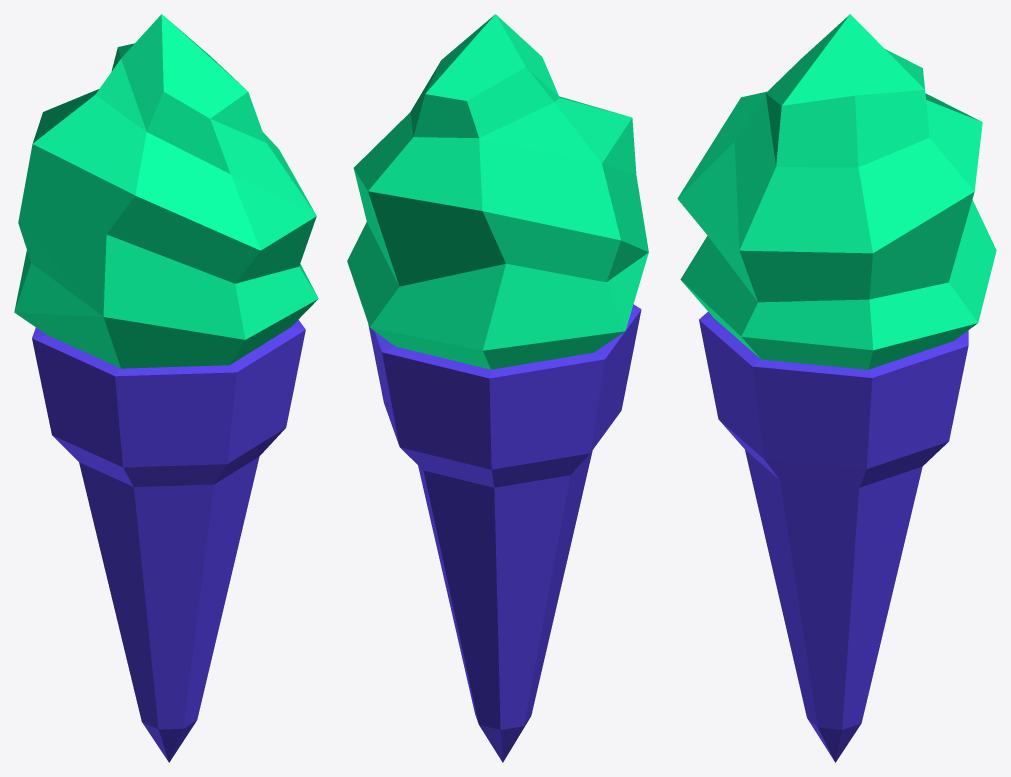
Rendered from 053_iceCream.fbx.
The picture shows the model from 3 angles, left to right: view 1: azimuth 30°, elevation 25°; view 2: azimuth 150°, elevation 25°; view 3: azimuth 270°, elevation 25°; orthographic projection.
Parts seen in each view (by area): view 1: ICECREAM; view 2: ICECREAM; view 3: ICECREAM.
Boxes of the visible parts, x1,y1,x2,y2 form: ICECREAM: [14, 14, 318, 762]; ICECREAM: [347, 14, 648, 762]; ICECREAM: [677, 14, 996, 762].
Bounding box in the file's own units: 39.85 × 104 × 40.13.
